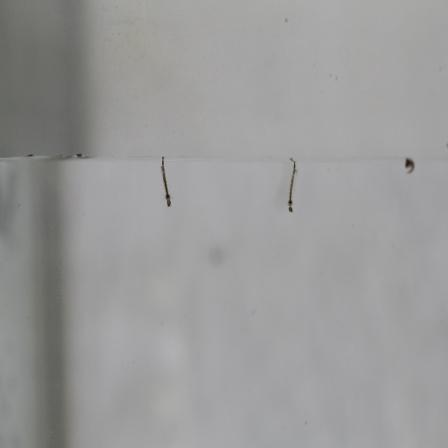Jentik-Nyamuk: (282, 158, 299, 217), (157, 155, 175, 210), (402, 156, 417, 178)
